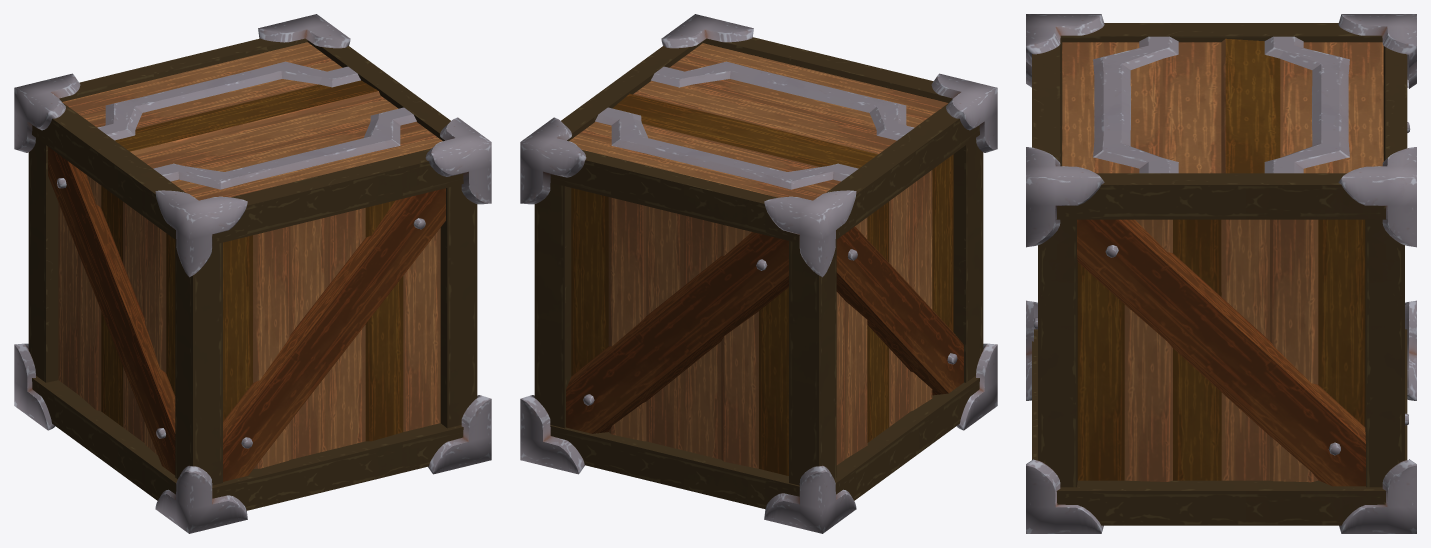
Rendered from crate-metal.glb.
3 renders of one model, left to right at view 1: azimuth 30°, elevation 25°; view 2: azimuth 150°, elevation 25°; view 3: azimuth 270°, elevation 25°, orthographic. The views are drawn at different scales.
Visible parts, largest first — view 1: Crate_Metal; view 2: Crate_Metal; view 3: Crate_Metal.
Part boxes in pixels (<box>): Crate_Metal: <box>14,14,491,533</box>; Crate_Metal: <box>520,14,997,533</box>; Crate_Metal: <box>1026,14,1416,533</box>.
Size of the model in its own units: 0.8639 by 0.8679 by 0.8659.
Materials: 2 (2 with a texture image).
